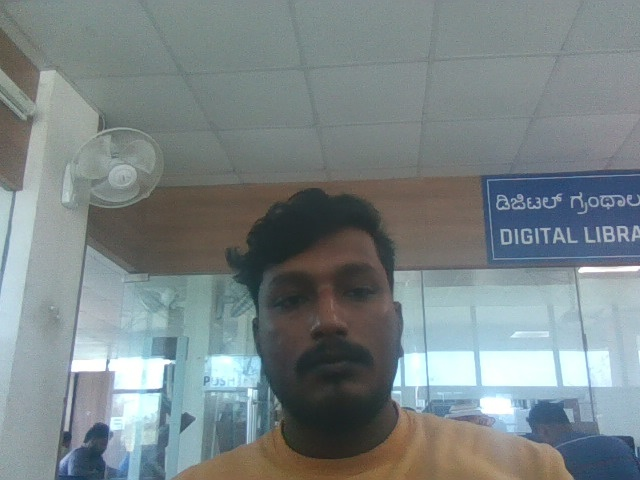real: (238, 171, 419, 427)
